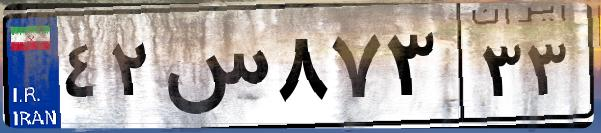2: (110, 28, 158, 98)
3: (385, 28, 445, 110), (475, 38, 525, 113), (525, 38, 570, 115)
4: (57, 26, 110, 100)
7: (330, 28, 385, 110)
8: (270, 28, 330, 110)
س: (158, 20, 270, 120)
